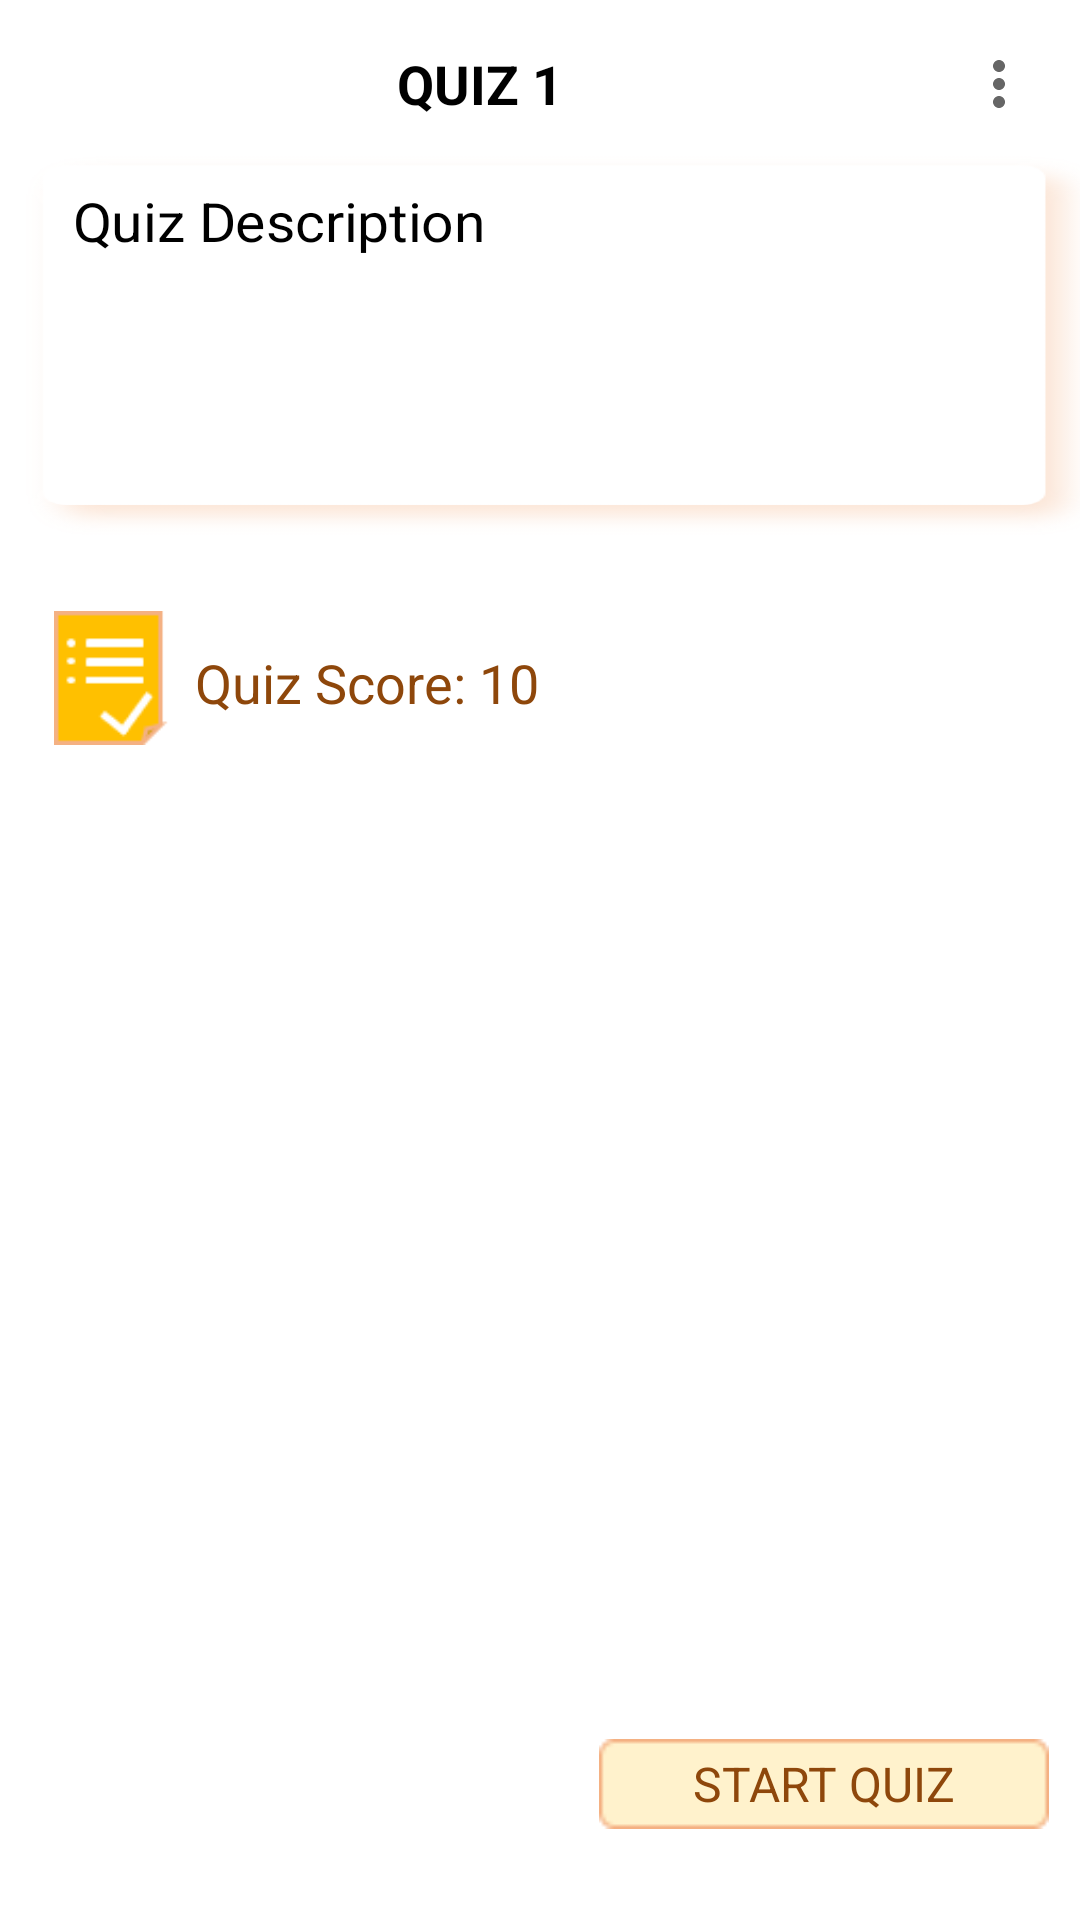

Named icons in this screenshot (1080px x 1920px) and their bounding boxes, (x1, y1, x2, y2):
graphics score: (54, 611, 167, 745)
